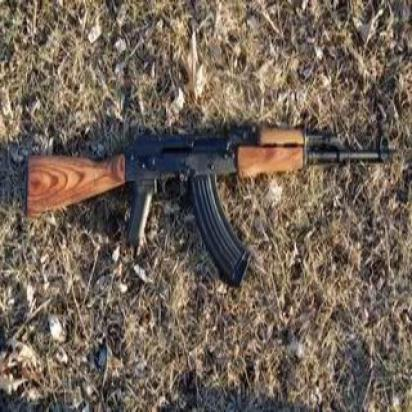Gun: (13, 119, 396, 286)
